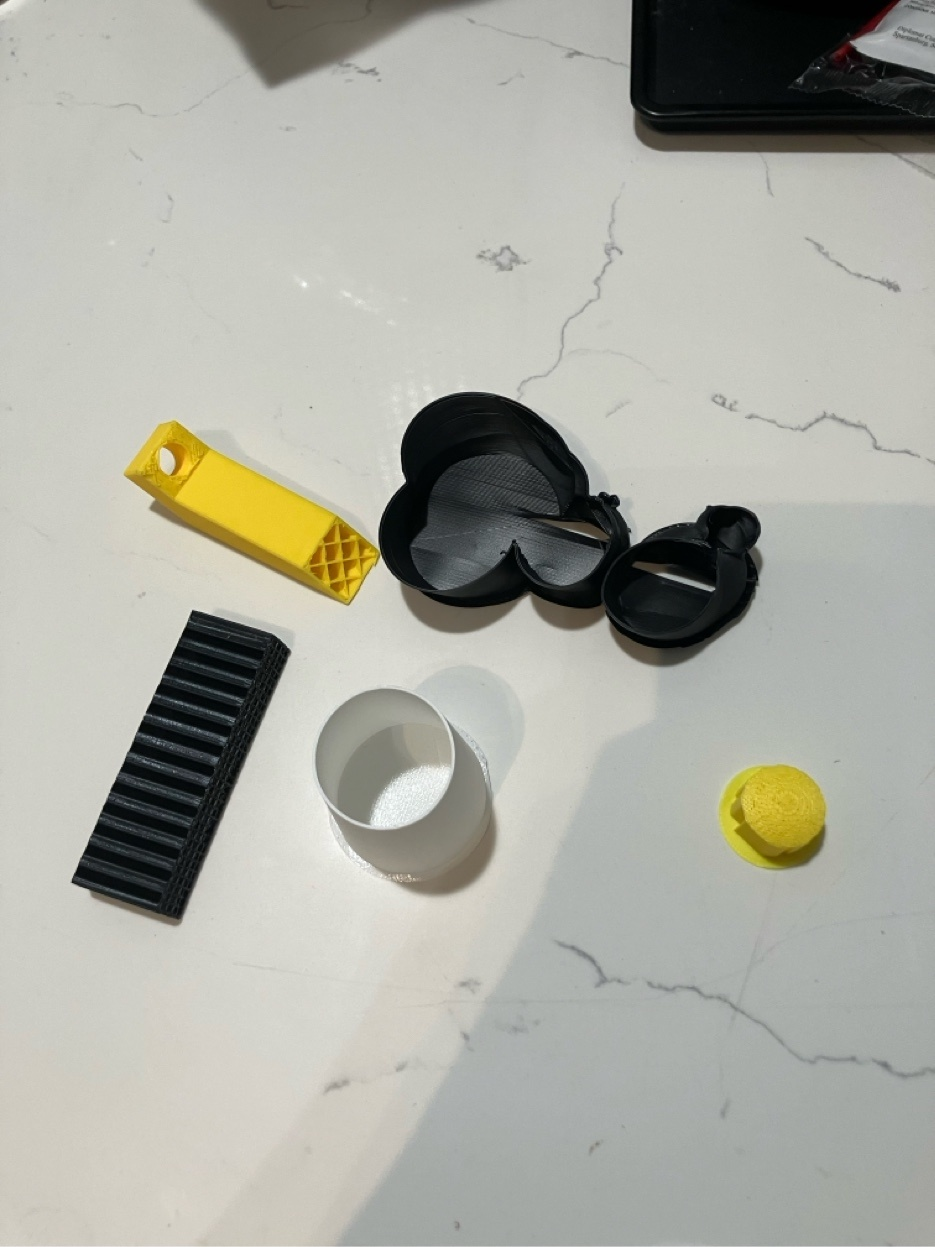bracket: (124, 421, 380, 605)
cup: (315, 665, 492, 880)
holder: (379, 392, 761, 665)
knob: (719, 764, 827, 870)
slotted_block: (73, 611, 289, 919)
